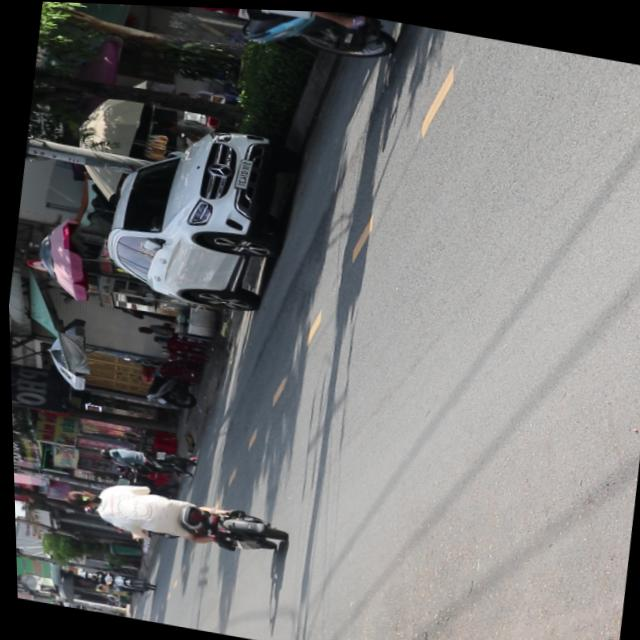licenseplate: (103, 3, 418, 72), (55, 471, 286, 561)
motorcyclist: (58, 485, 95, 509)
